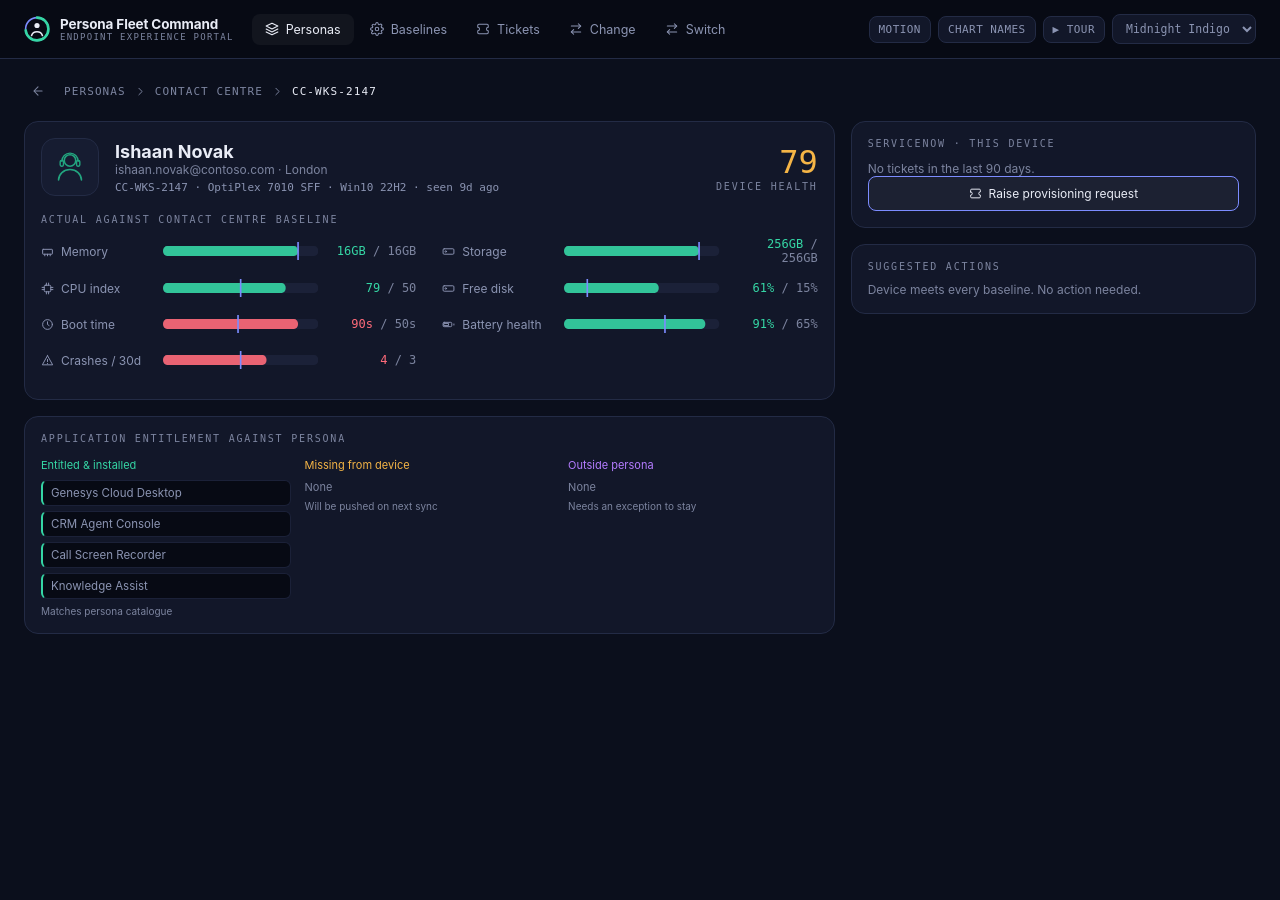
Test: device page › does not carry a raised request over to another device
Expected: the text "Device health" is shown, top-left (716, 180), bottom-right (818, 192)
Click the button "Raise provisioning request" at (1053, 194), box top-left (868, 176), bottom-right (1239, 211)
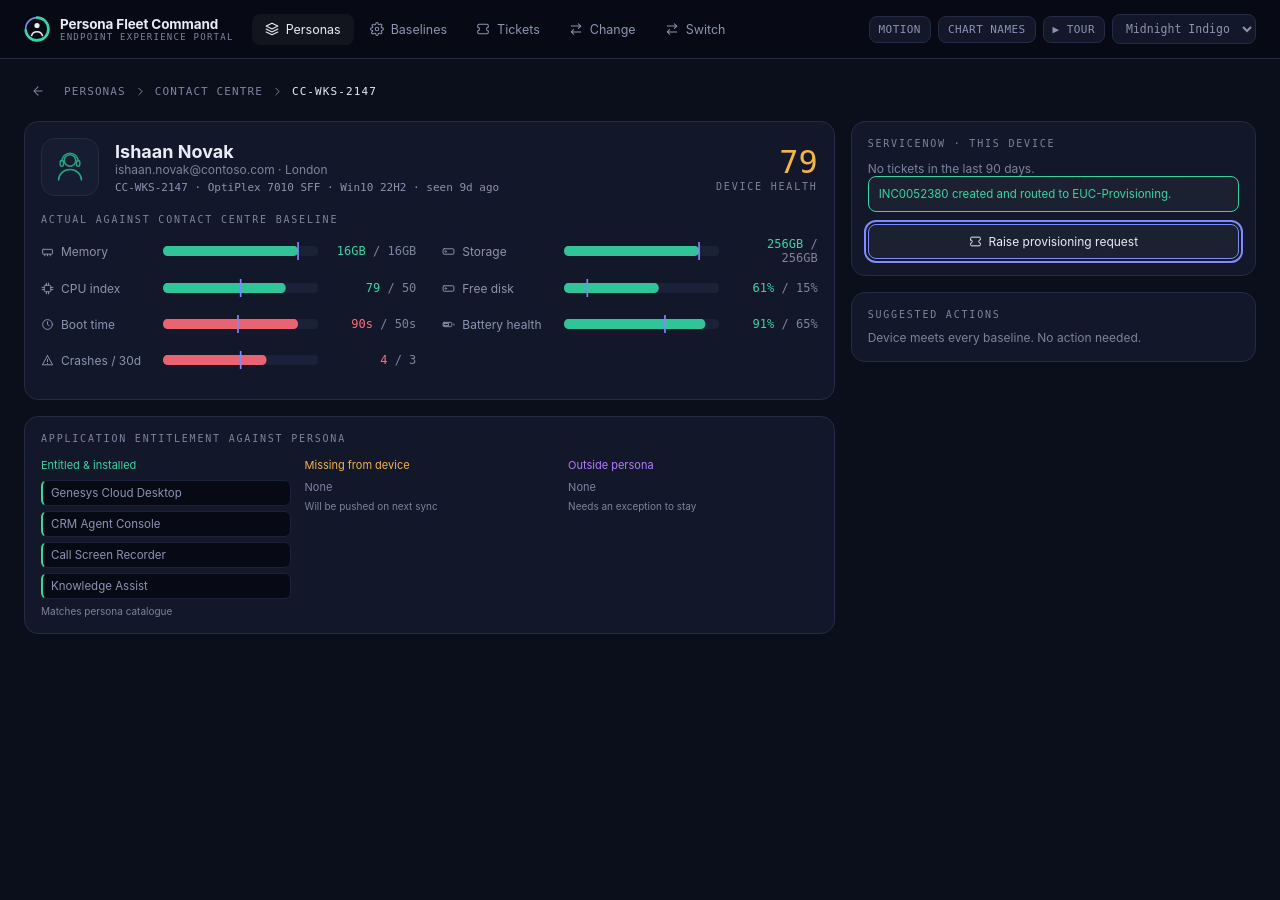
Expected: the message "INC0052380 created and routed to EUC-Provisioning." is shown, top-left (868, 176), bottom-right (1239, 212)
